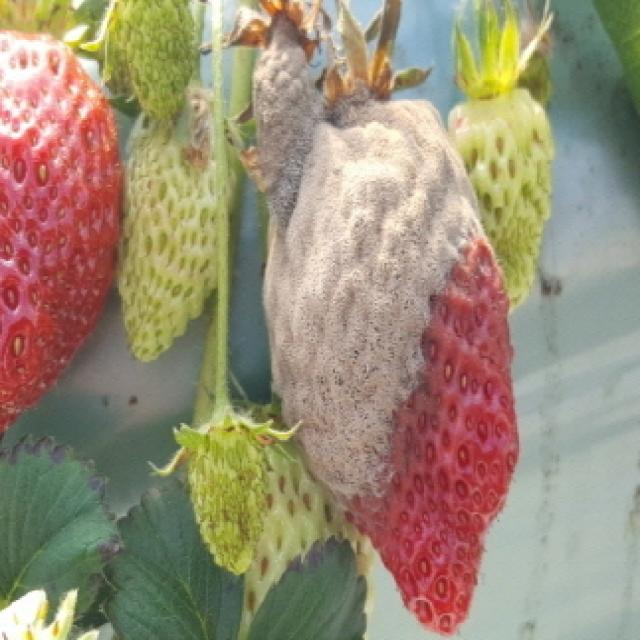Gray Mold: (260, 0, 509, 539), (203, 0, 361, 221)
